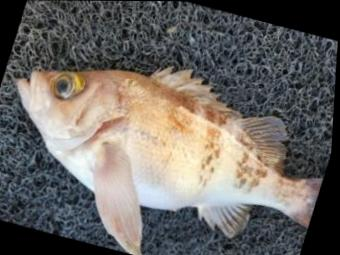fish: (14, 66, 324, 255)
